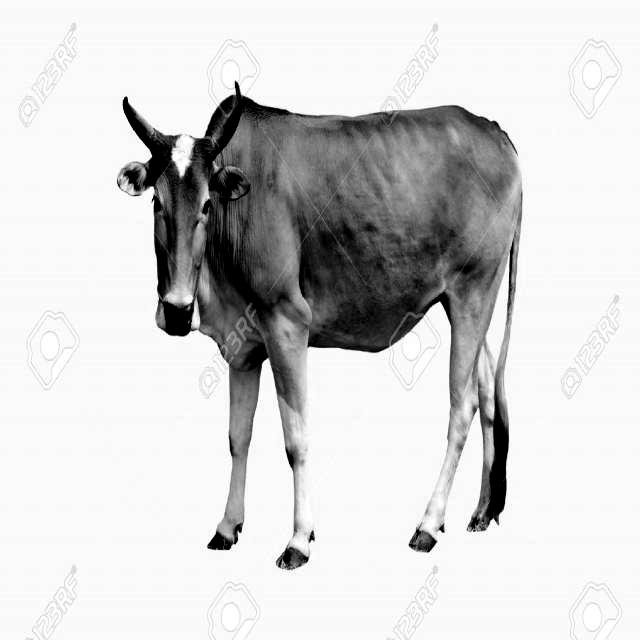COW: (118, 86, 522, 569)
